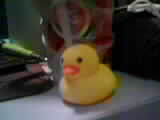duck: (55, 41, 118, 109)
